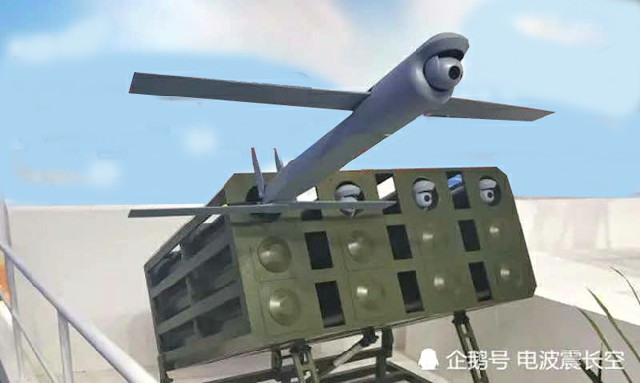maybay_khongnguoilai: (121, 30, 548, 228)
